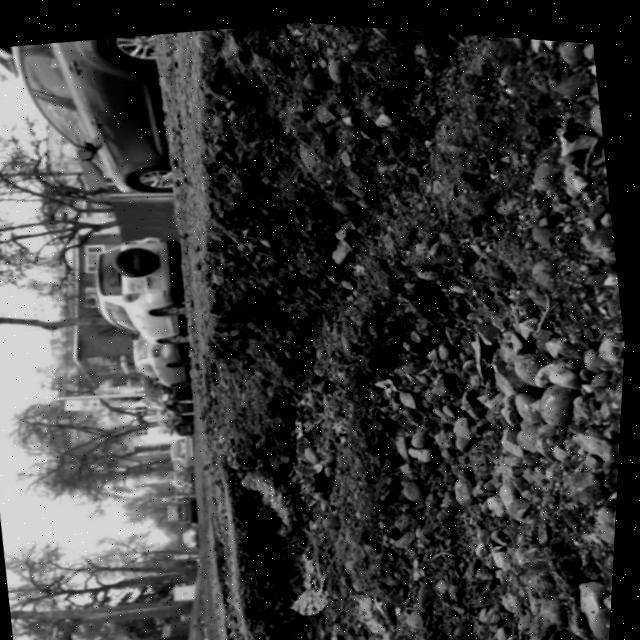pothole: (133, 9, 640, 640)
